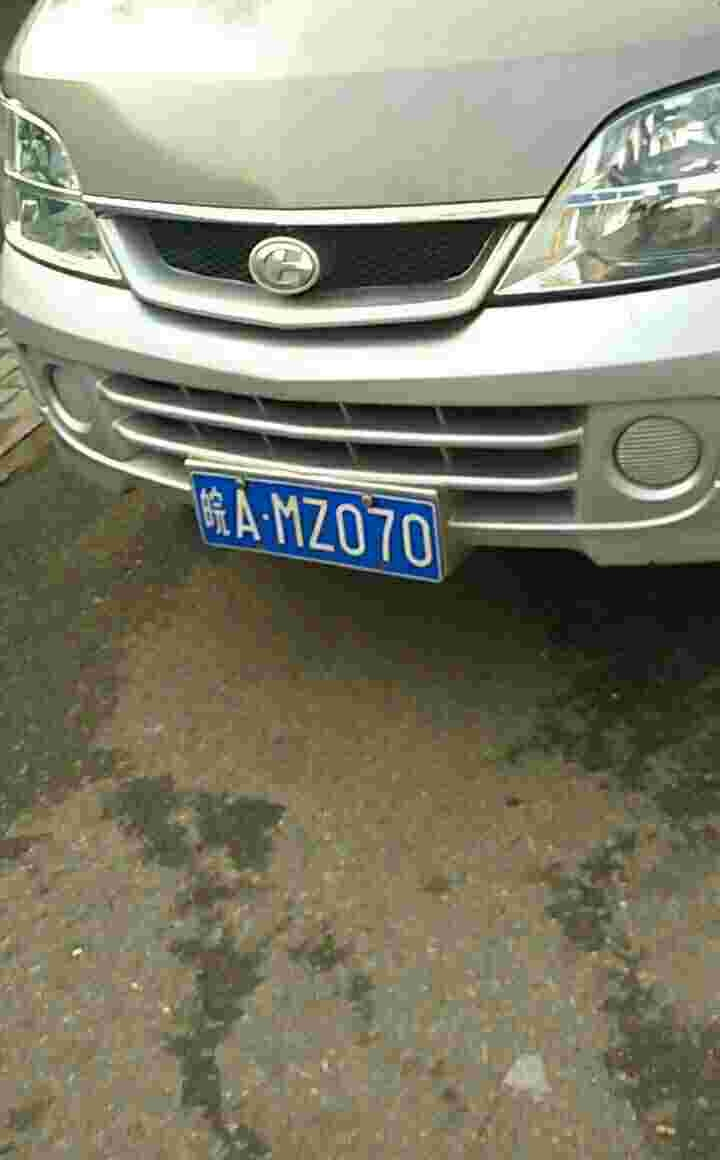license_plate: (195, 473, 442, 584)
